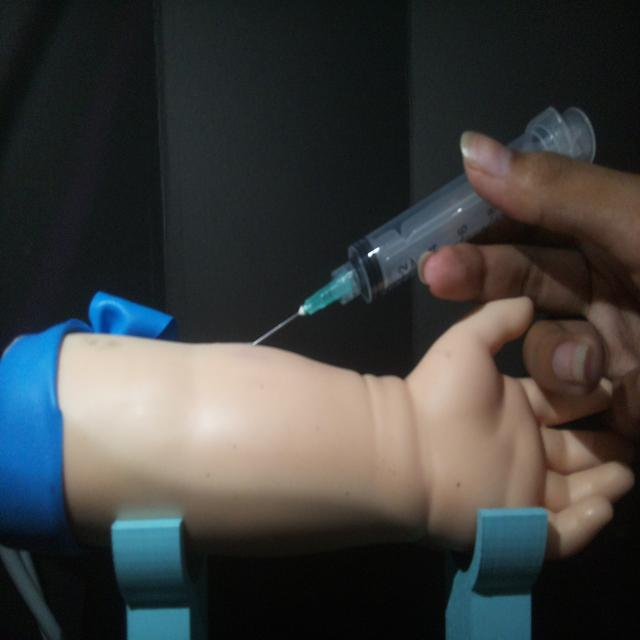28deg: (247, 102, 599, 354)
